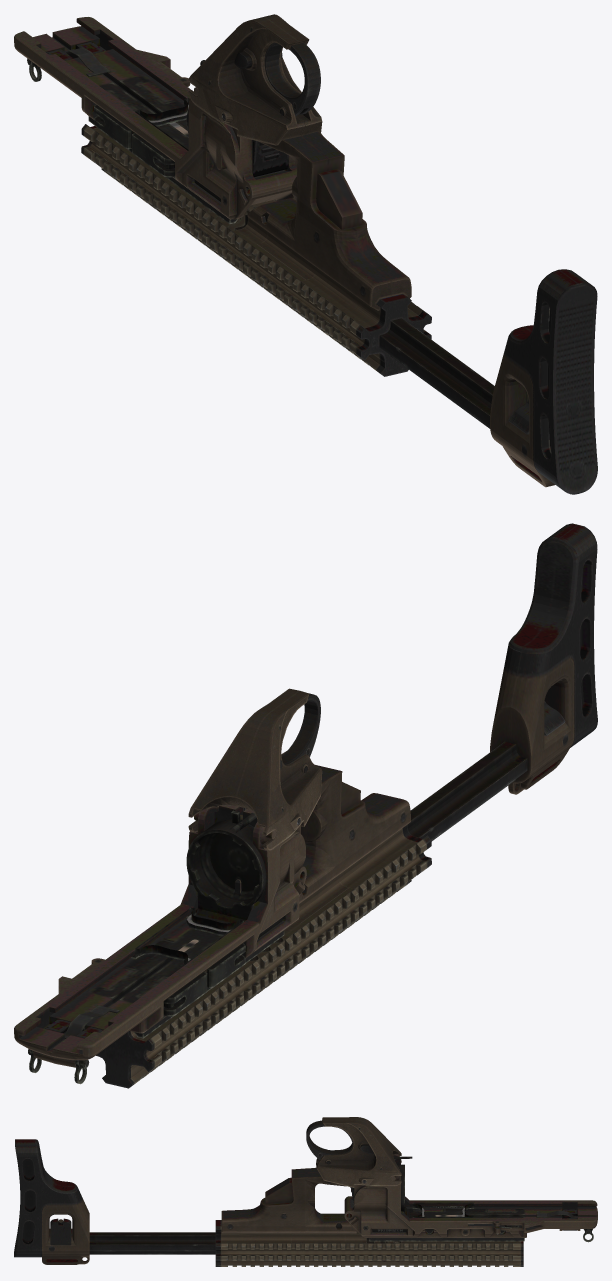
3 views of the same model, one above another, from view 1: azimuth 30°, elevation 25°; view 2: azimuth 150°, elevation 25°; view 3: azimuth 270°, elevation 25° (orthographic). The views are drawn at different scales.
Visible parts, largest first — view 1: TW_5e81ebcd8e146c7080625e15_PZ_Import; view 2: TW_5e81ebcd8e146c7080625e15_PZ_Import; view 3: TW_5e81ebcd8e146c7080625e15_PZ_Import.
Part boxes in pixels (x1,y1,x2,y2): TW_5e81ebcd8e146c7080625e15_PZ_Import: (14, 14, 597, 494); TW_5e81ebcd8e146c7080625e15_PZ_Import: (14, 523, 597, 1088); TW_5e81ebcd8e146c7080625e15_PZ_Import: (14, 1117, 597, 1266).
Size of the model in its own units: 0.0385 by 0.3731 by 0.1015.
1 material, 1 textured.
